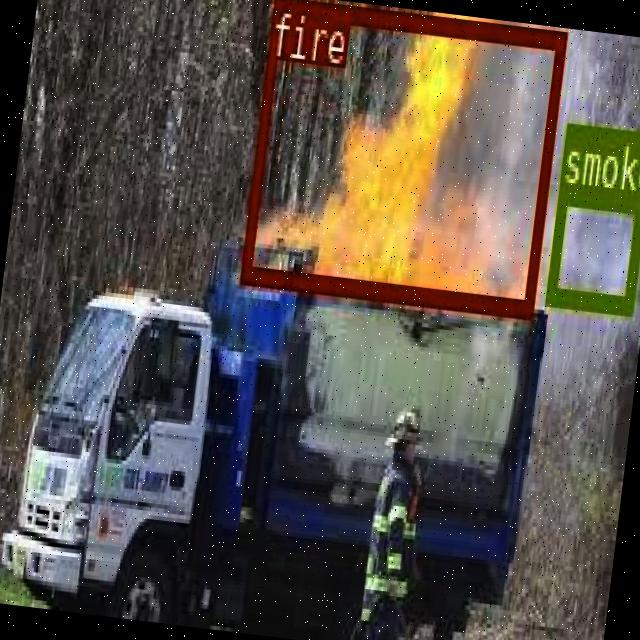fire: (238, 0, 565, 313)
smoke: (543, 184, 640, 311)
